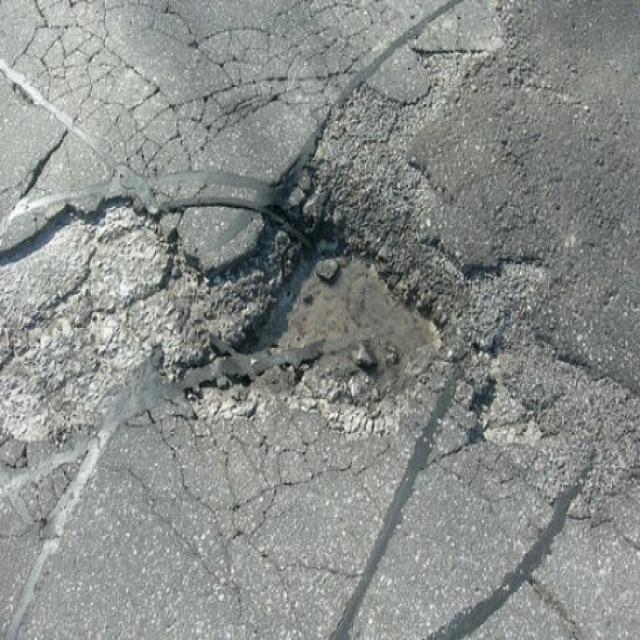pothole: (197, 186, 464, 429)
